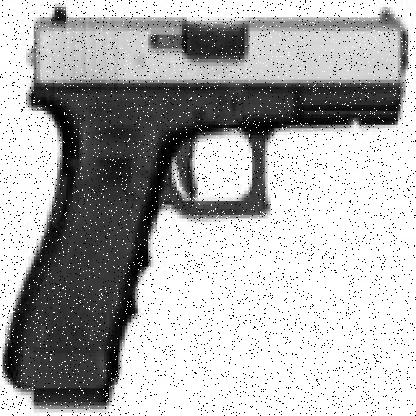pistol: (5, 3, 408, 384)
